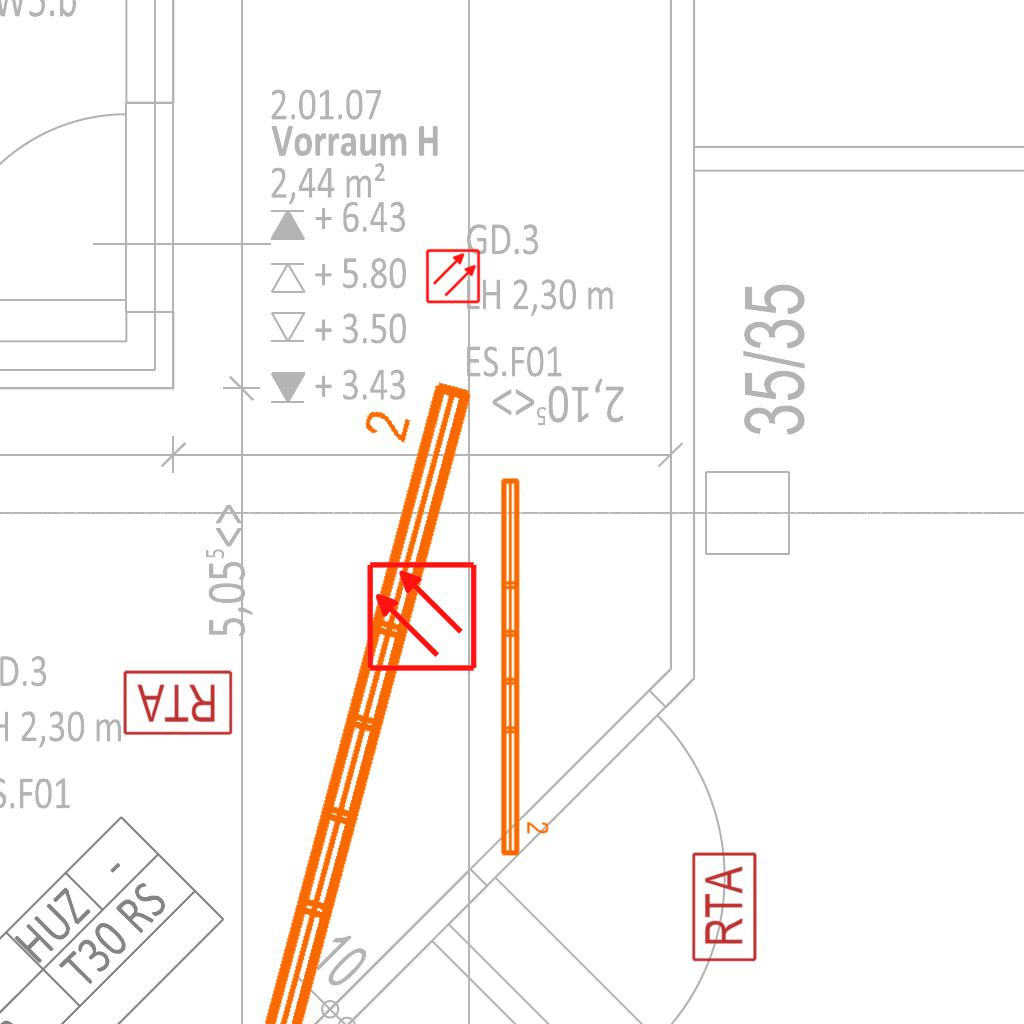Ambulanz_Pendelleuchte_LED: (177, 356, 487, 1024), (495, 473, 551, 860)
RMO_Rauchmelder_optischer: (365, 560, 478, 673), (425, 248, 481, 304)
Ruf-und_Abstelltaster: (122, 668, 236, 737), (690, 851, 759, 965)
